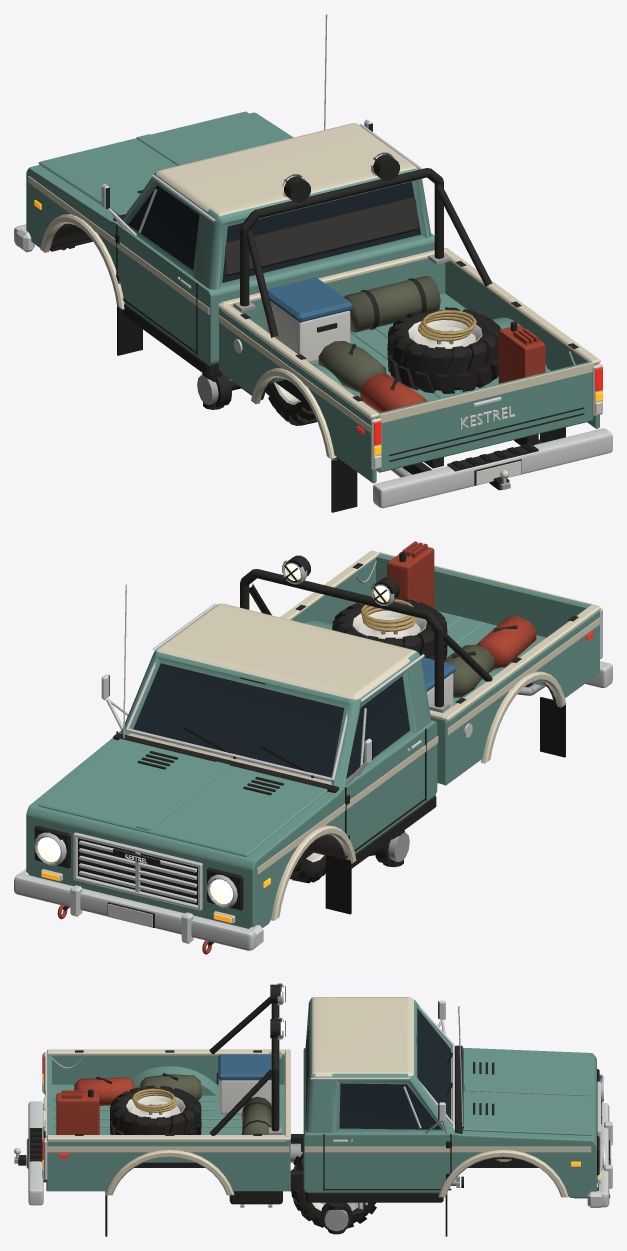
Rendered from vehicle_ranger.glb.
3 renders of one model, top to bottom at view 1: azimuth 30°, elevation 25°; view 2: azimuth 150°, elevation 25°; view 3: azimuth 270°, elevation 25°, orthographic. The views are drawn at different scales.
Visible parts, largest first — view 1: Body, Wheel, AxleFront; view 2: Body, Wheel, AxleFront; view 3: Body, Wheel, AxleFront.
Boxes of the visible parts, bbox=[...] form: Body: bbox=[14, 14, 612, 512]; Wheel: bbox=[265, 382, 317, 425]; AxleFront: bbox=[197, 373, 252, 409]; Body: bbox=[14, 541, 612, 954]; Wheel: bbox=[290, 853, 325, 883]; AxleFront: bbox=[314, 831, 409, 867]; Body: bbox=[14, 983, 612, 1236]; Wheel: bbox=[291, 1148, 376, 1228]; AxleFront: bbox=[324, 1202, 367, 1234].
Bounding box in the file's own units: 1.92 × 2.22 × 4.7.
